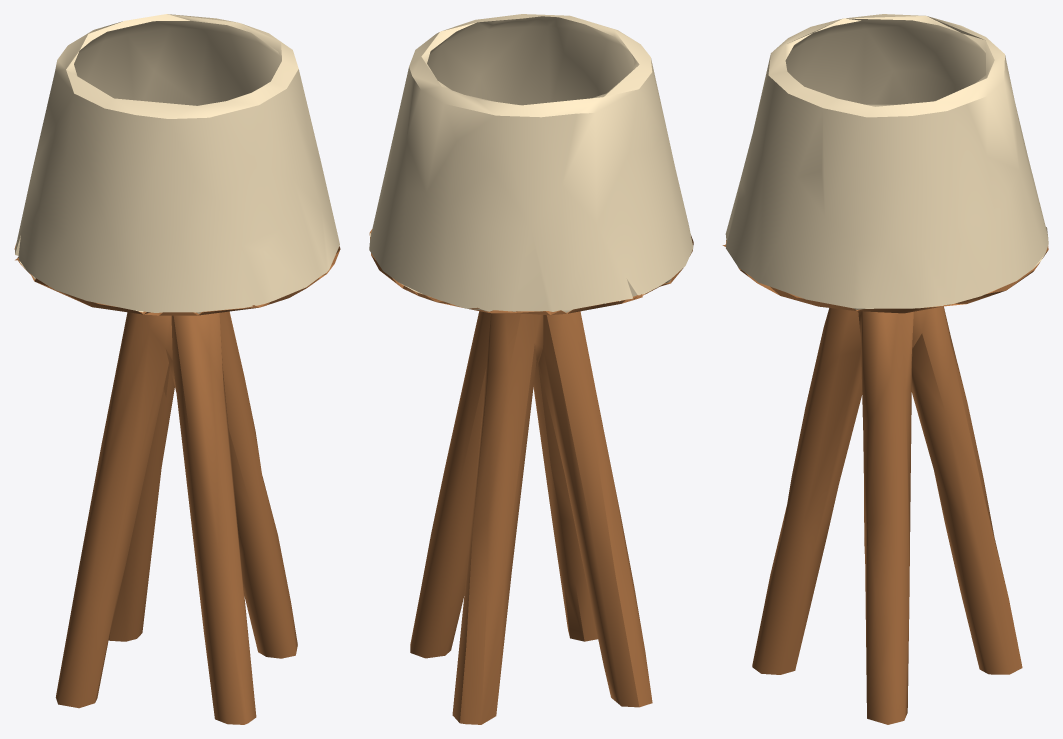
The model's file is floorLamp.glb.
3 renders of one model, left to right at view 1: azimuth 30°, elevation 25°; view 2: azimuth 150°, elevation 25°; view 3: azimuth 270°, elevation 25°, orthographic.
Parts seen in each view (by area): view 1: floorLamp_glow, floorLamp_wood; view 2: floorLamp_glow, floorLamp_wood; view 3: floorLamp_glow, floorLamp_wood.
Part boxes in pixels (x1=…): floorLamp_glow: x1=15, y1=14, x2=339, y2=313; floorLamp_wood: x1=14, y1=245, x2=340, y2=724; floorLamp_glow: x1=369, y1=14, x2=693, y2=312; floorLamp_wood: x1=369, y1=229, x2=693, y2=724; floorLamp_glow: x1=725, y1=14, x2=1048, y2=309; floorLamp_wood: x1=722, y1=240, x2=1048, y2=724.
Size of the model in its own units: 0.7206 by 1.5 by 0.7299.
